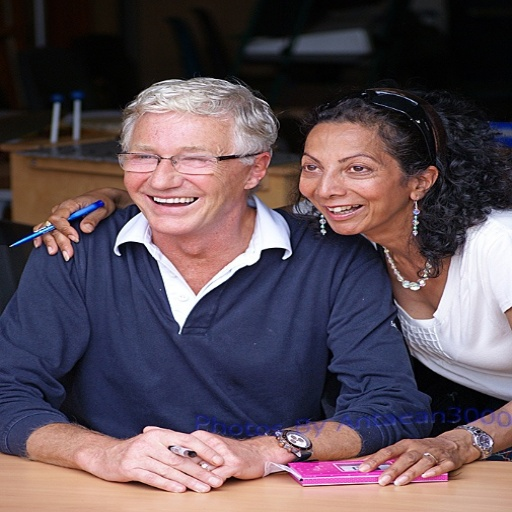hand: (91, 427, 225, 492), (138, 423, 270, 481), (368, 424, 485, 482), (30, 191, 117, 263)
